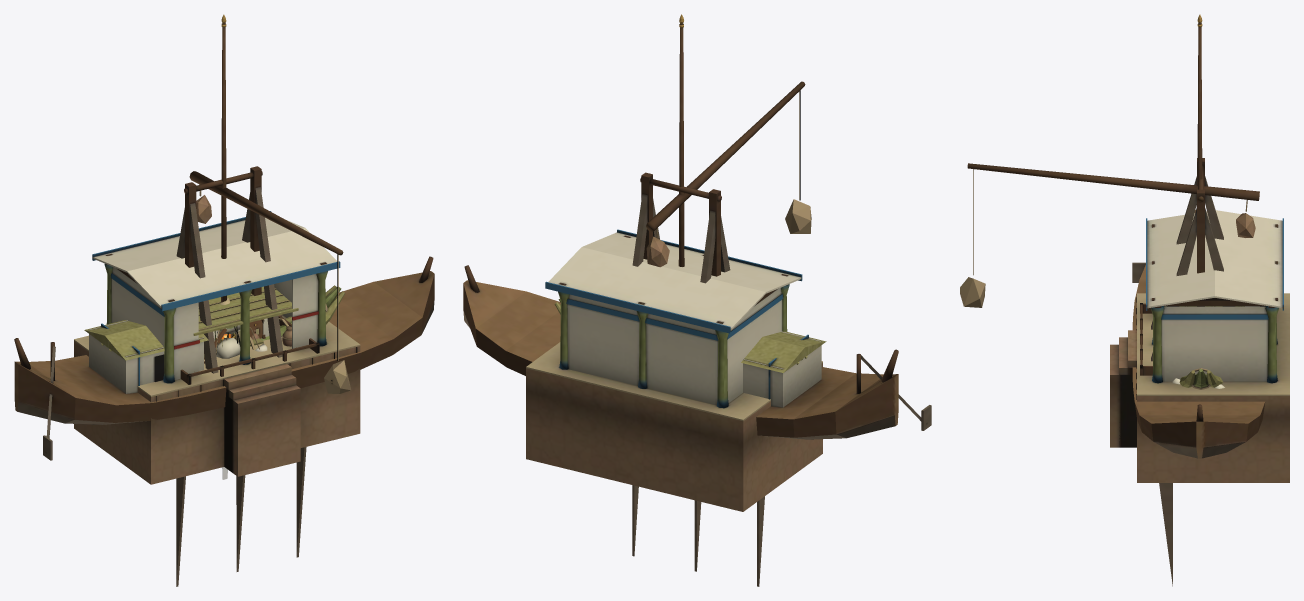
Rendered from tameri.glb.
3 views of the same model, side by side, from view 1: azimuth 30°, elevation 25°; view 2: azimuth 150°, elevation 25°; view 3: azimuth 270°, elevation 25° (orthographic). The views are drawn at different scales.
Visible parts, largest first — view 1: pavilion_life_LOD0, barge_LOD0, hoist_LOD0, landing_stage_LOD0, awning_LOD0, flagstaff_LOD0, reed_boat_LOD0, grain_stack_LOD0; view 2: pavilion_life_LOD0, barge_LOD0, hoist_LOD0, landing_stage_LOD0, flagstaff_LOD0; view 3: pavilion_life_LOD0, barge_LOD0, hoist_LOD0, landing_stage_LOD0, flagstaff_LOD0, reed_boat_LOD0.
Boxes of the visible parts, x1=… form: pavilion_life_LOD0: x1=74, y1=211, x2=360, y2=484; barge_LOD0: x1=14, y1=256, x2=434, y2=460; hoist_LOD0: x1=176, y1=166, x2=350, y2=393; landing_stage_LOD0: x1=176, y1=315, x2=319, y2=586; awning_LOD0: x1=193, y1=286, x2=298, y2=372; flagstaff_LOD0: x1=221, y1=14, x2=226, y2=302; reed_boat_LOD0: x1=101, y1=285, x2=345, y2=357; grain_stack_LOD0: x1=214, y1=298, x2=259, y2=358; pavilion_life_LOD0: x1=526, y1=229, x2=822, y2=511; barge_LOD0: x1=463, y1=265, x2=931, y2=439; hoist_LOD0: x1=632, y1=81, x2=811, y2=283; landing_stage_LOD0: x1=632, y1=485, x2=764, y2=586; flagstaff_LOD0: x1=678, y1=14, x2=684, y2=266; pavilion_life_LOD0: x1=1110, y1=210, x2=1289, y2=482; barge_LOD0: x1=1132, y1=204, x2=1264, y2=458; hoist_LOD0: x1=960, y1=158, x2=1259, y2=361; landing_stage_LOD0: x1=1140, y1=303, x2=1172, y2=586; flagstaff_LOD0: x1=1197, y1=14, x2=1202, y2=185; reed_boat_LOD0: x1=1179, y1=368, x2=1222, y2=389.
Size of what is drawn, in the model's own units: 16 by 20 by 11.
Materials: 2 (2 with a texture image).
